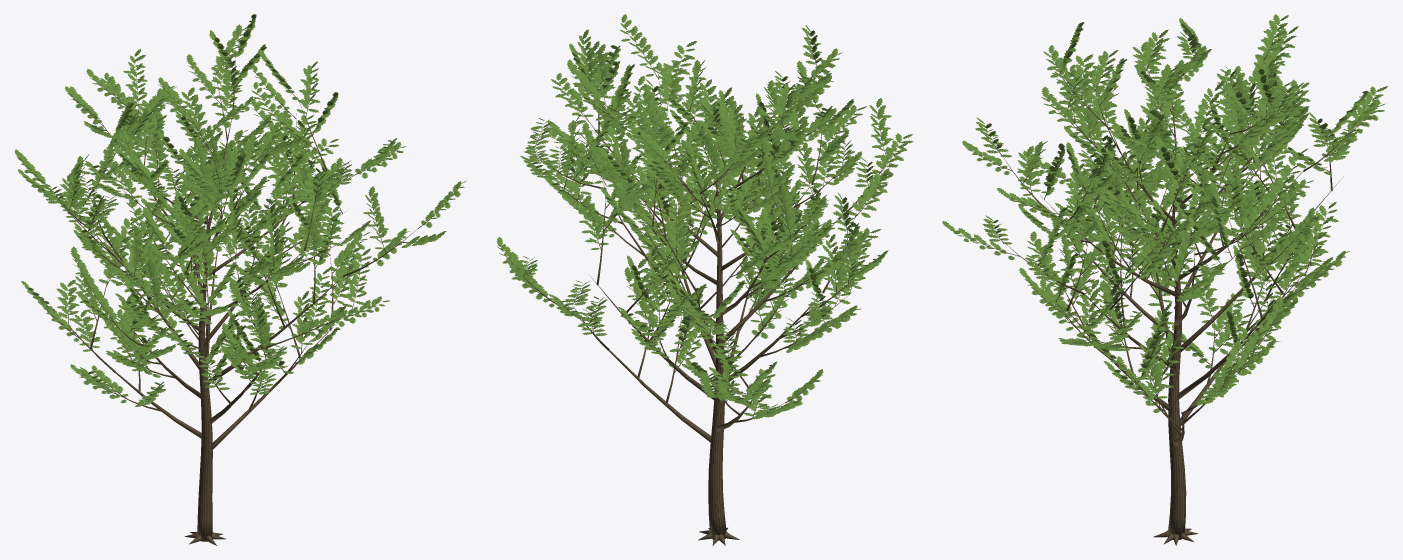
The model's file is Sessile_Oak_Mature_02_Unpruned_LOD0.fbx.
3 views of the same model, side by side, from view 1: azimuth 30°, elevation 25°; view 2: azimuth 150°, elevation 25°; view 3: azimuth 270°, elevation 25° (orthographic). The views are drawn at different scales.
Parts seen in each view (by area): view 1: Sessile_Oak_Mature_02_Unpruned_LOD0; view 2: Sessile_Oak_Mature_02_Unpruned_LOD0; view 3: Sessile_Oak_Mature_02_Unpruned_LOD0.
Boxes of the visible parts, box(x1,y1,x2,y2) form: Sessile_Oak_Mature_02_Unpruned_LOD0: box(14, 14, 466, 545); Sessile_Oak_Mature_02_Unpruned_LOD0: box(496, 14, 913, 545); Sessile_Oak_Mature_02_Unpruned_LOD0: box(942, 14, 1388, 545).
Size of the model in its own units: 1592 by 2201 by 1710.
Materials: 2 (1 with a texture image).
